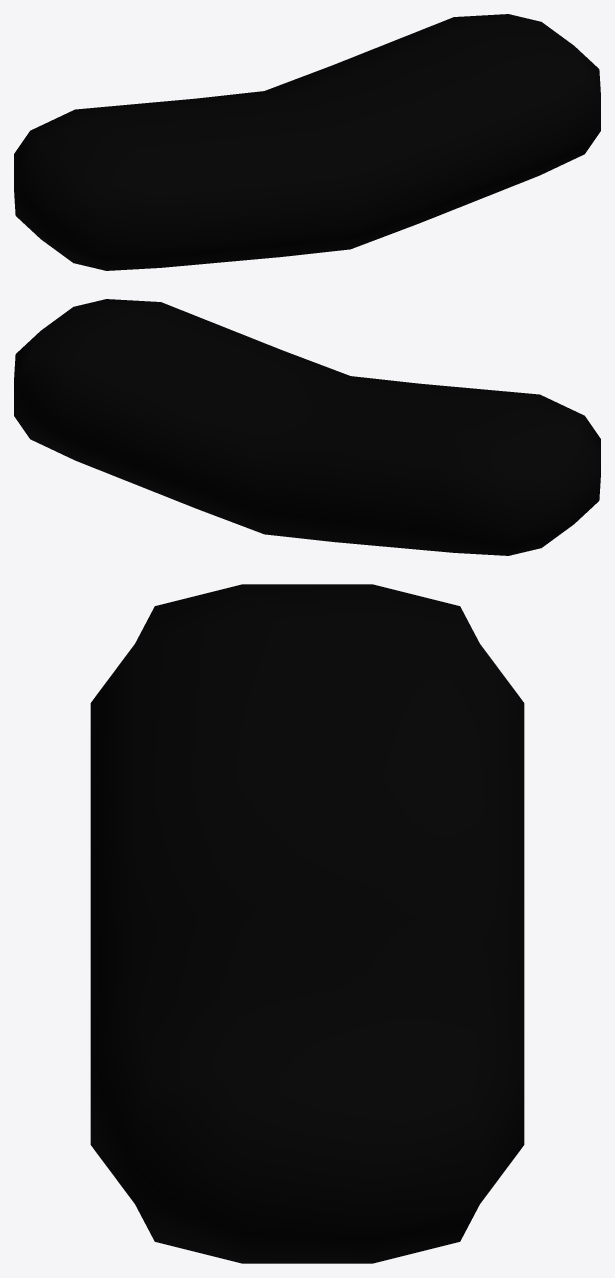
File: mouth.fbx
3 views of the same model, one above another, from view 1: azimuth 30°, elevation 25°; view 2: azimuth 150°, elevation 25°; view 3: azimuth 270°, elevation 25° (orthographic). The views are drawn at different scales.
Parts seen in each view (by area): view 1: polySurface1; view 2: polySurface1; view 3: polySurface1.
Boxes of the visible parts, left/top/right/bottom form: polySurface1: left=14, top=14, right=600, bottom=270; polySurface1: left=14, top=299, right=600, bottom=555; polySurface1: left=90, top=584, right=524, bottom=1263.
Bounding box in the file's own units: 2.15 × 0.5511 × 0.7342.
